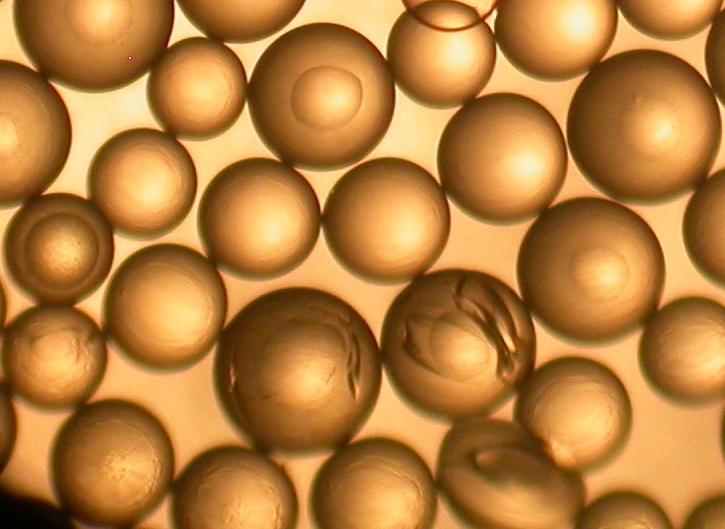resin: (213, 287, 385, 457), (566, 46, 721, 206), (382, 268, 537, 421), (516, 196, 666, 348), (247, 24, 398, 172), (437, 92, 568, 227), (435, 418, 584, 529), (101, 242, 227, 373), (323, 157, 451, 285), (196, 156, 322, 282), (48, 400, 176, 524), (11, 1, 175, 92), (516, 356, 633, 474), (4, 192, 115, 306), (87, 128, 198, 240), (385, 1, 497, 110), (307, 437, 437, 529), (1, 306, 108, 410), (145, 34, 248, 141), (1, 58, 73, 210), (172, 446, 301, 529), (494, 1, 618, 81), (639, 296, 725, 409), (176, 1, 307, 43), (682, 168, 725, 291), (618, 1, 724, 42), (581, 489, 673, 529)
